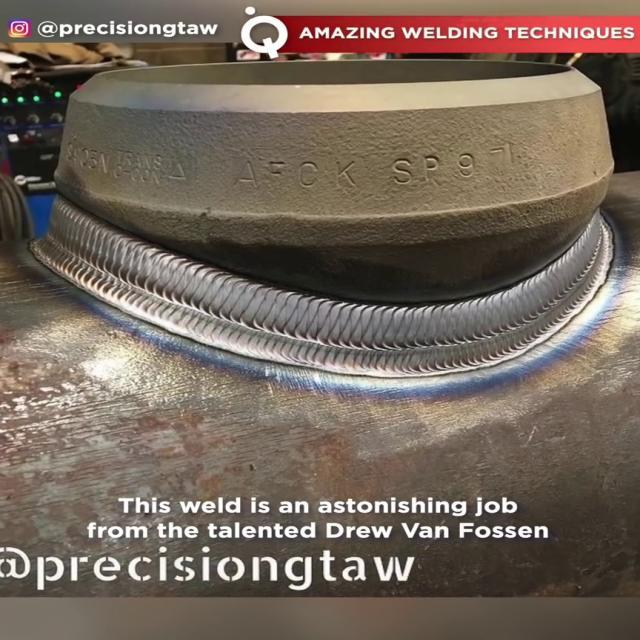Good Welding: (24, 195, 619, 382)
